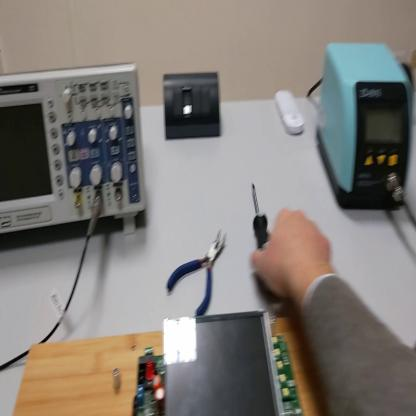hand: (252, 208, 333, 305)
low voltage board: (135, 313, 305, 414)
oscilloscope: (2, 63, 145, 235)
pliers: (166, 228, 229, 319)
screwdriver-: (251, 187, 274, 308)
welder station: (319, 44, 411, 216)
working area: (15, 318, 314, 416)
